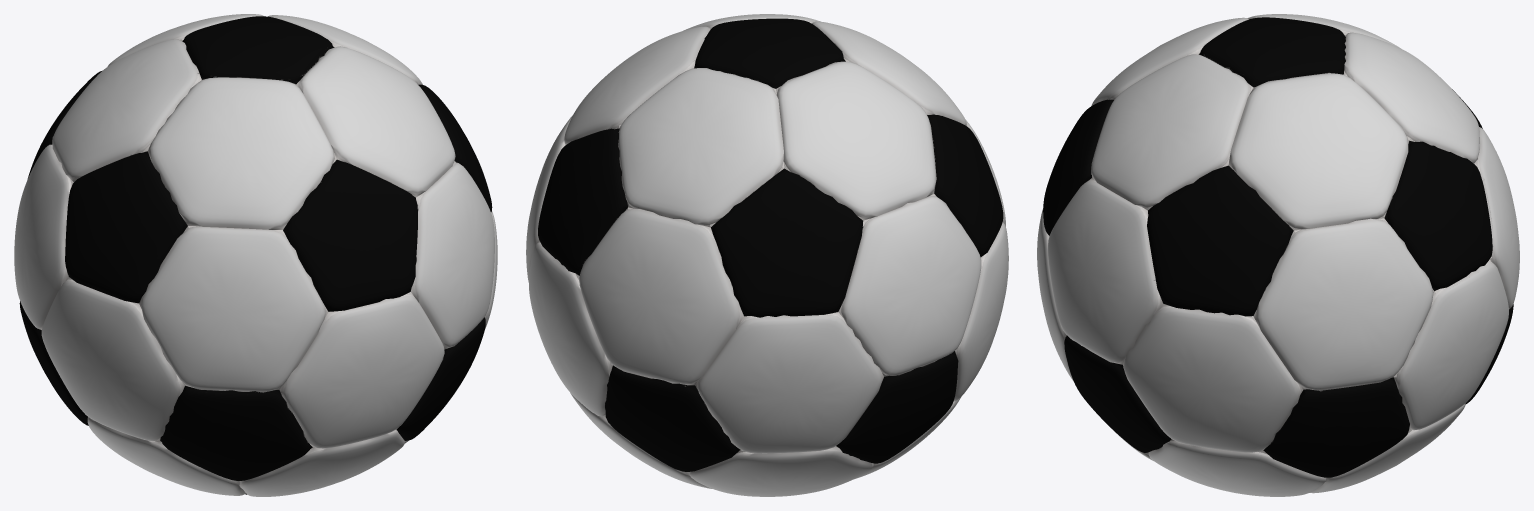
File: football.glb
3 views of the same model, side by side, from view 1: azimuth 30°, elevation 25°; view 2: azimuth 150°, elevation 25°; view 3: azimuth 270°, elevation 25° (orthographic).
Parts seen in each view (by area): view 1: soccer_ball; view 2: soccer_ball; view 3: soccer_ball.
Boxes of the visible parts, x1,y1,x2,y2 form: soccer_ball: [14, 14, 497, 496]; soccer_ball: [526, 14, 1008, 496]; soccer_ball: [1037, 14, 1519, 496].
Bounding box in the file's own units: 0.5328 × 0.535 × 0.5351.
Materials: 1 (1 with a texture image).
